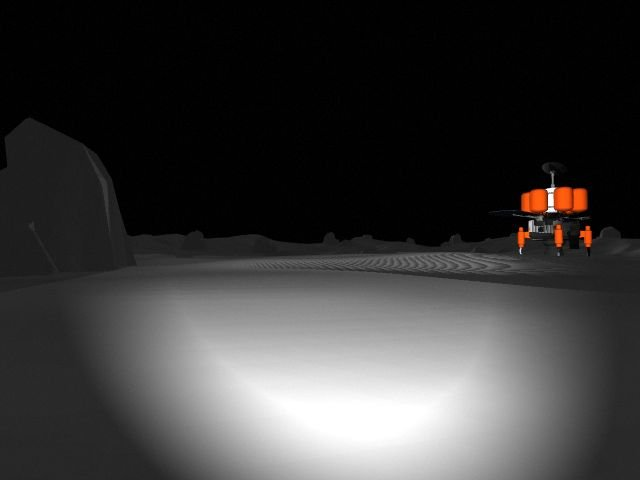homebase: (468, 158, 625, 261)
